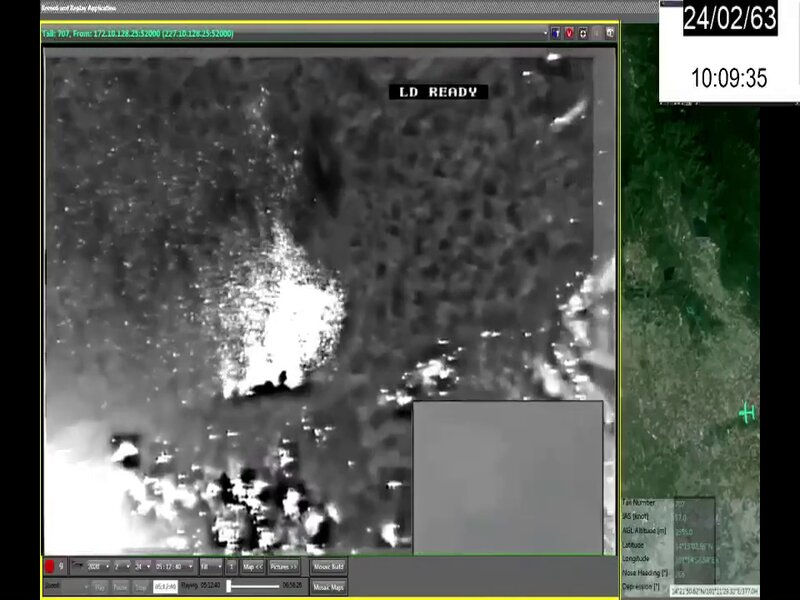Fire: (217, 219, 346, 401)
